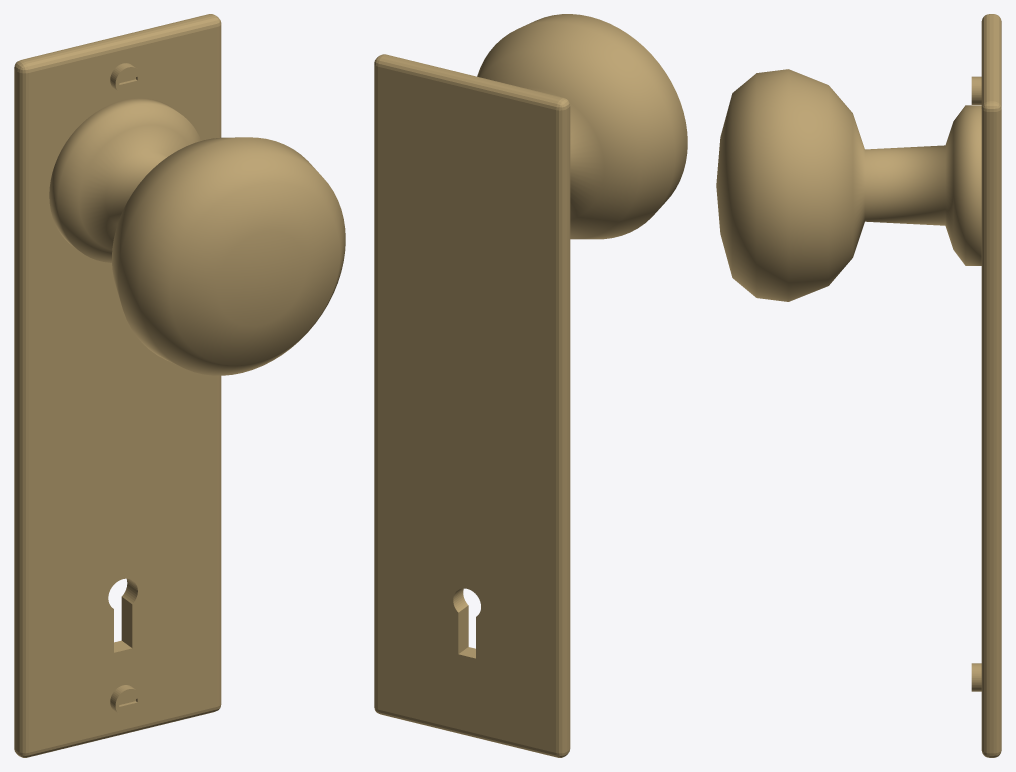
File: door_knob_set.glb
3 renders of one model, left to right at view 1: azimuth 30°, elevation 25°; view 2: azimuth 150°, elevation 25°; view 3: azimuth 270°, elevation 25°, orthographic. The views are drawn at different scales.
Visible parts, largest first — view 1: KnobSet; view 2: KnobSet; view 3: KnobSet.
Part boxes in pixels (x1,y1,x2,y2): KnobSet: [14, 14, 345, 757]; KnobSet: [374, 14, 687, 757]; KnobSet: [716, 14, 1001, 757].
Bounding box in the file's own units: 0.058 × 0.18 × 0.071.
